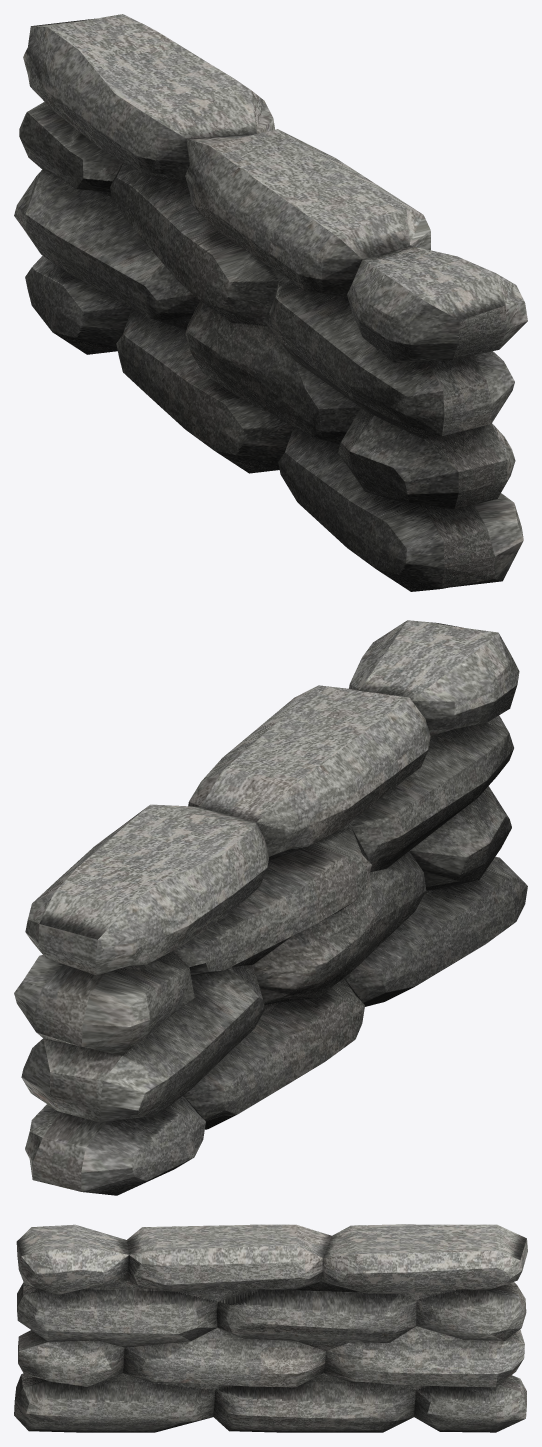
The model's file is Mur.fbx.
3 renders of one model, top to bottom at view 1: azimuth 30°, elevation 25°; view 2: azimuth 150°, elevation 25°; view 3: azimuth 270°, elevation 25°, orthographic. The views are drawn at different scales.
Visible parts, largest first — view 1: Mur; view 2: Mur; view 3: Mur.
Part boxes in pixels (x1=…): Mur: x1=14, y1=14, x2=527, y2=591; Mur: x1=14, y1=620, x2=527, y2=1195; Mur: x1=14, y1=1224, x2=527, y2=1432.
Size of the model in its own units: 0.2117 by 0.3965 by 1.01.
